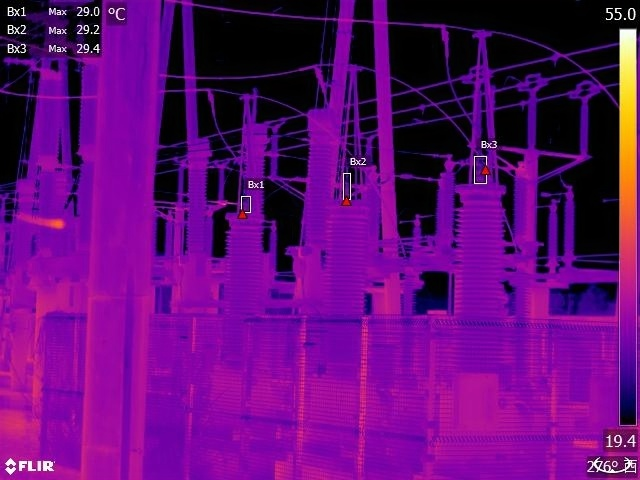clamp: (200, 79, 221, 112), (309, 57, 329, 91), (434, 20, 454, 50)
current transformer: (295, 107, 345, 262), (179, 131, 220, 274), (236, 114, 270, 218)
post insulator: (577, 96, 594, 154), (523, 96, 540, 152), (562, 194, 576, 257), (546, 207, 558, 268)
potential transformer: (450, 168, 512, 367), (315, 179, 370, 375), (215, 204, 271, 366)
